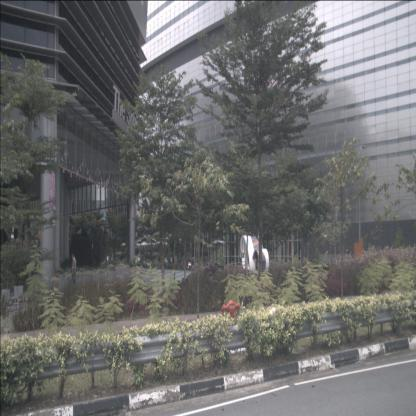human-pedestrian-adult: (70, 252, 77, 291)
